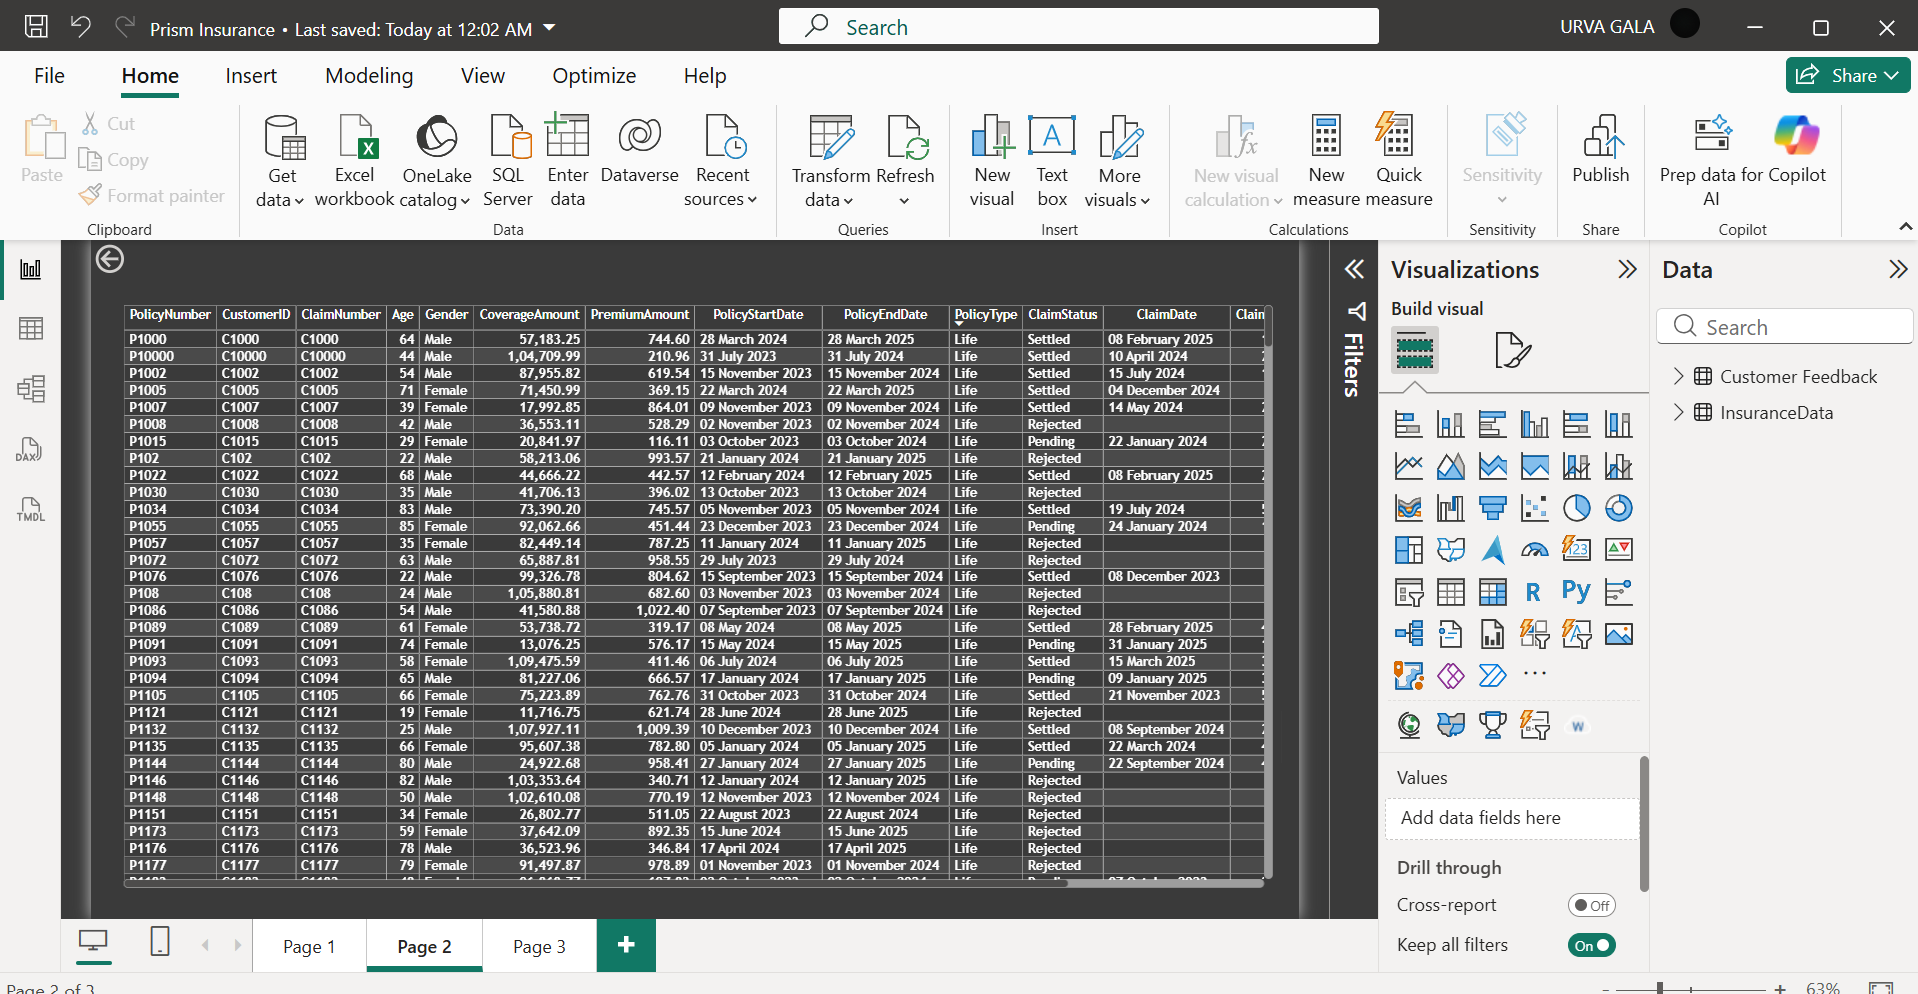

The page's visual inventory and layout, read from the dashboard file:
{"tool":"powerbi","page":{"name":"Page 2","canvas":[1280,720],"ordinal":1},"visuals":[{"type":"tableEx","fields":{"Values":["InsuranceData.PolicyNumber","InsuranceData.CustomerID","InsuranceData.ClaimNumber","InsuranceData.Age","InsuranceData.Gender","InsuranceData.CoverageAmount","InsuranceData.PremiumAmount","InsuranceData.PolicyStartDate","InsuranceData.PolicyEndDate","InsuranceData.PolicyType","InsuranceData.ClaimStatus","InsuranceData.ClaimDate"]},"box":[28.6,63.6,1229.5,628.3],"z":0},{"type":"actionButton","box":[0,0,100,40],"z":1000}]}

Visuals, with their boxes on the page's 1280x720 design canvas (x1, y1, x2, y2). These are canvas units, not pixel positions in the 1918x994 screenshot, which may show the page scaled, cropped or inside an application window:
tableEx - InsuranceData.PolicyNumber x InsuranceData.CustomerID: x1=29, y1=64, x2=1258, y2=692
actionButton: x1=0, y1=0, x2=100, y2=40
